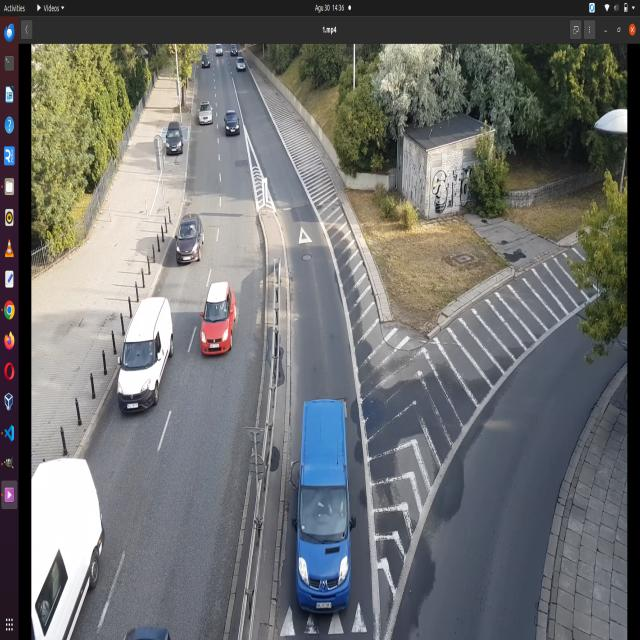person_with_seatbelt: (218, 302, 227, 316)
